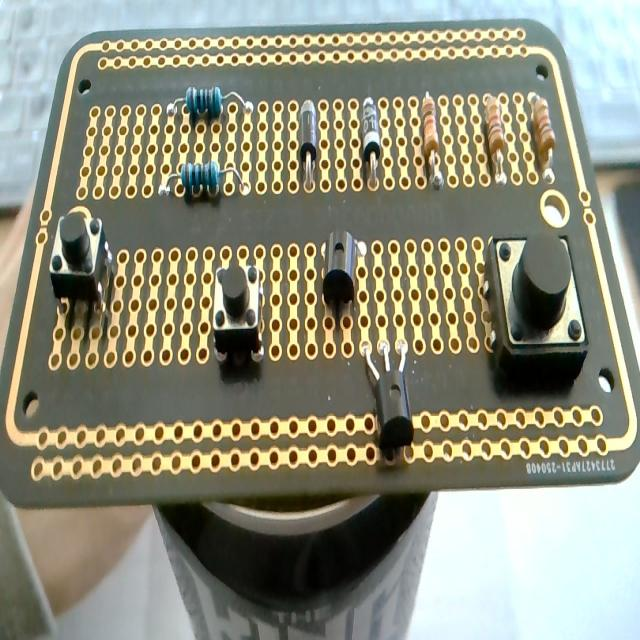diode: (361, 97, 381, 189), (299, 100, 318, 192)
resistor: (160, 160, 248, 198), (168, 85, 250, 120), (422, 93, 446, 190), (530, 94, 556, 178), (485, 94, 509, 184)
switch: (486, 231, 588, 380), (50, 211, 113, 314), (212, 259, 265, 365)
transistor: (362, 334, 414, 459), (322, 229, 366, 317)
